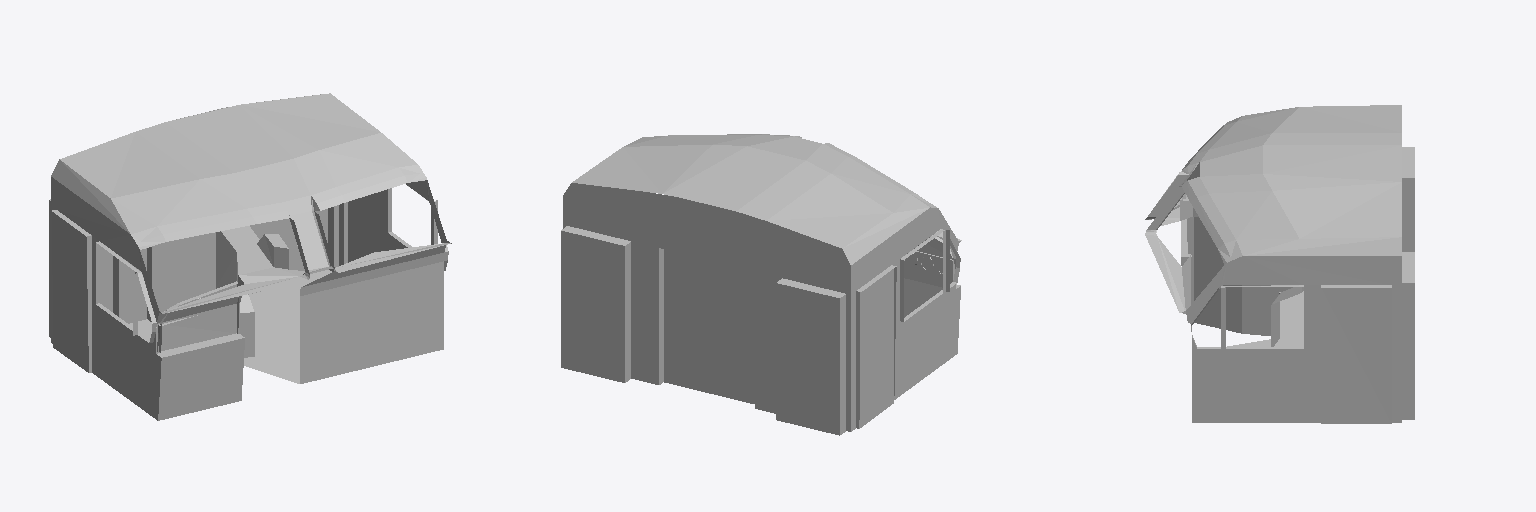
Rendered from cabin.obj.
3 renders of one model, left to right at view 1: azimuth 30°, elevation 25°; view 2: azimuth 150°, elevation 25°; view 3: azimuth 270°, elevation 25°, orthographic.
Parts seen in each view (by area): view 1: cabin.001_Plane.006_Plane.004; view 2: cabin.001_Plane.006_Plane.004; view 3: cabin.001_Plane.006_Plane.004.
Part boxes in pixels (x1,y1,x2,y2): cabin.001_Plane.006_Plane.004: (49, 93, 451, 420); cabin.001_Plane.006_Plane.004: (561, 134, 961, 435); cabin.001_Plane.006_Plane.004: (1145, 105, 1414, 423).
Size of the model in its own units: 12.6 by 7.61 by 9.66.